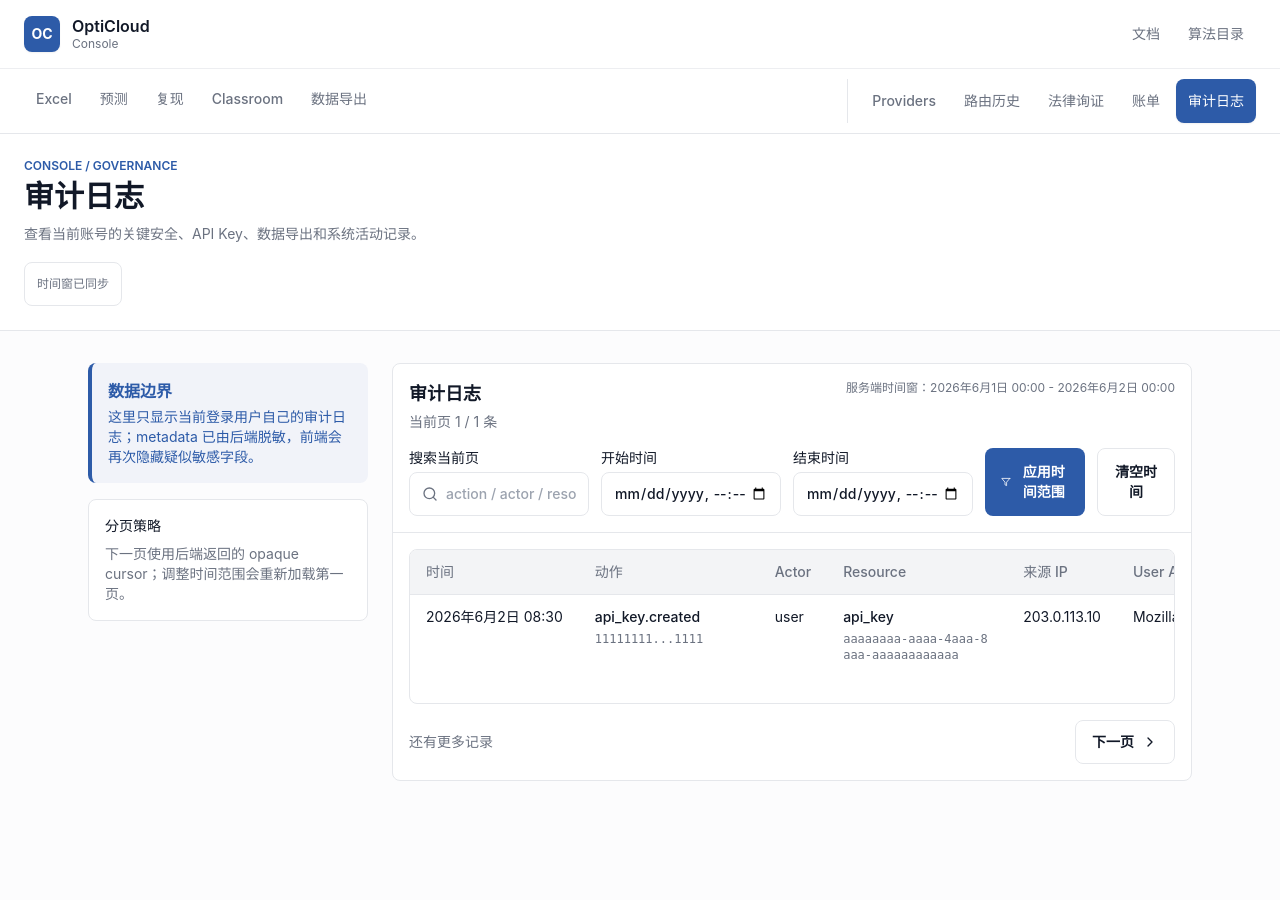
AuditLogsPage › loads the next cursor page without writing sensitive storage
Expected: the text "api_key.created" is shown, [595, 608, 700, 625]
Click the button "下一页" at (1125, 742), box [1075, 720, 1175, 764]
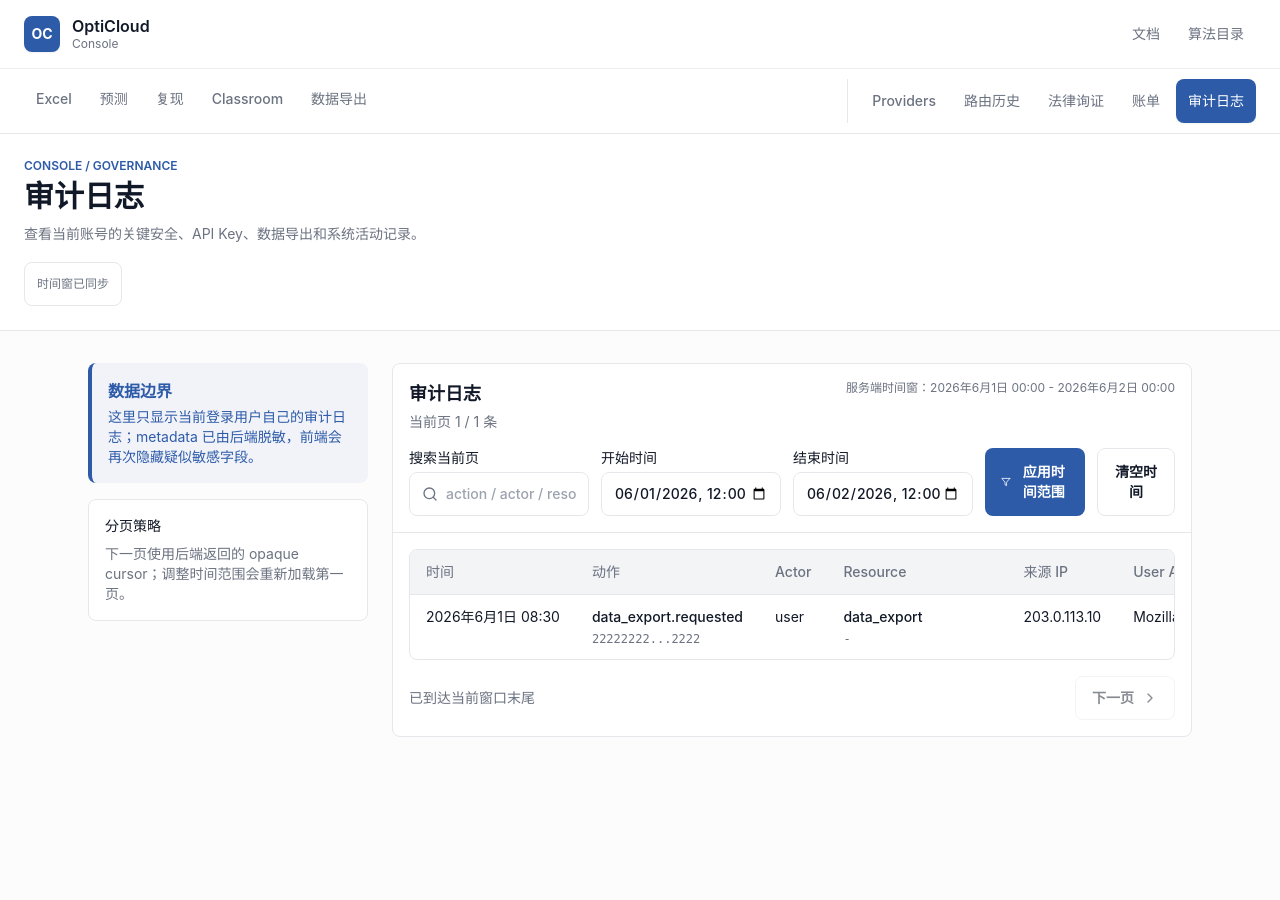
Expected: the text "data_export.requested" is shown, [592, 607, 743, 627]
